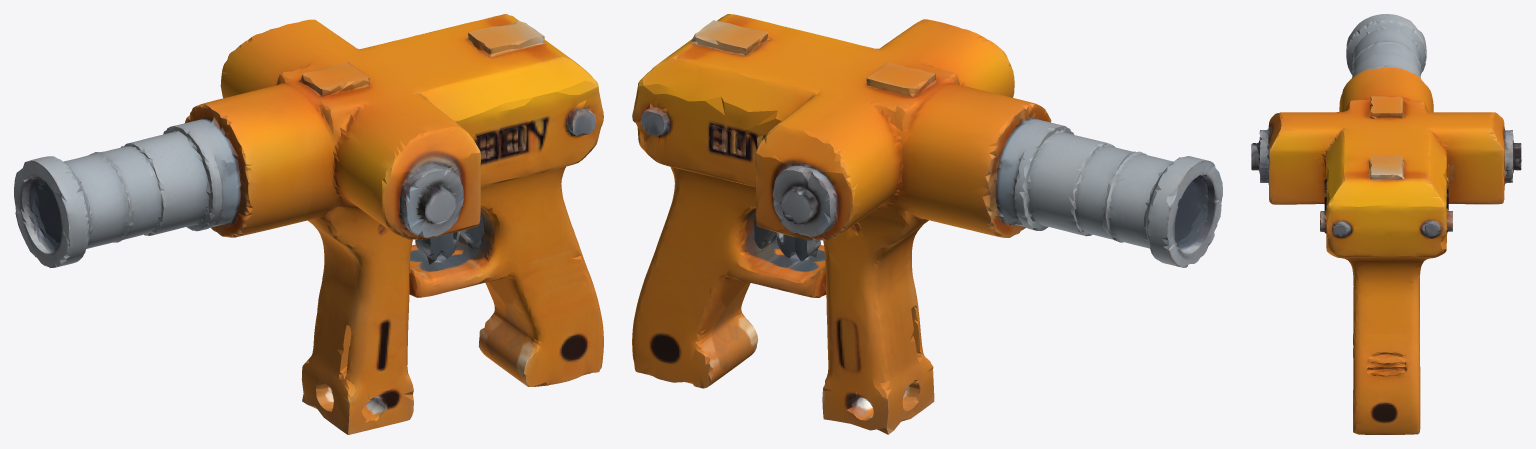
File: golem_weapon_secondary.glb
3 views of the same model, side by side, from view 1: azimuth 30°, elevation 25°; view 2: azimuth 150°, elevation 25°; view 3: azimuth 270°, elevation 25° (orthographic). The views are drawn at different scales.
Visible parts, largest first — view 1: golem_weapon_secondary; view 2: golem_weapon_secondary; view 3: golem_weapon_secondary.
Boxes of the visible parts, bbox=[...] form: golem_weapon_secondary: bbox=[14, 14, 603, 434]; golem_weapon_secondary: bbox=[632, 14, 1222, 434]; golem_weapon_secondary: bbox=[1251, 14, 1521, 434].
Bounding box in the file's own units: 1.89 × 1.13 × 1.13.
Materials: 1 (1 with a texture image).
